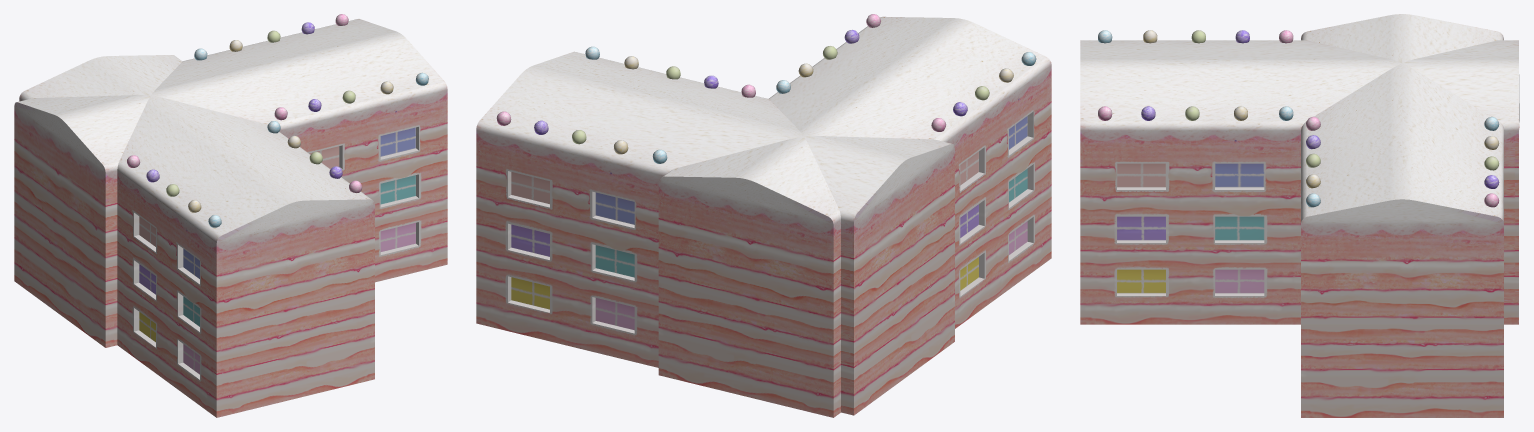
File: OuterWallB.fbx
3 renders of one model, left to right at view 1: azimuth 30°, elevation 25°; view 2: azimuth 150°, elevation 25°; view 3: azimuth 270°, elevation 25°, orthographic. The views are drawn at different scales.
Visible parts, largest first — view 1: polySurface44; view 2: polySurface44; view 3: polySurface44.
Part boxes in pixels (x1,y1,x2,y2): polySurface44: (14,14,447,417); polySurface44: (476,14,1051,417); polySurface44: (1080,14,1519,417).
Bounding box in the file's own units: 15.13 × 8.32 × 15.16.
